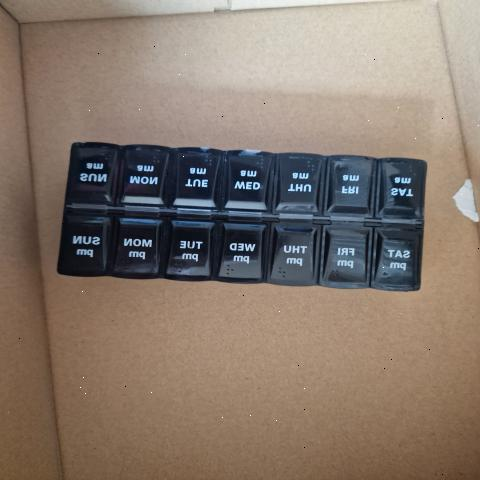FRI-am: (325, 157, 375, 214)
FRI-pm: (324, 231, 373, 288)
MON-am: (123, 148, 166, 208)
MON-pm: (118, 216, 161, 277)
SAT-am: (378, 160, 426, 220)
SAT-pm: (375, 236, 418, 287)
SUN-am: (73, 145, 116, 203)
SUN-pm: (62, 221, 111, 276)
THU-am: (276, 157, 322, 212)
THU-pm: (272, 229, 317, 282)
TUE-am: (171, 150, 221, 208)
TUE-pm: (166, 224, 214, 276)
WED-am: (224, 155, 274, 209)
WED-pm: (218, 226, 265, 280)
